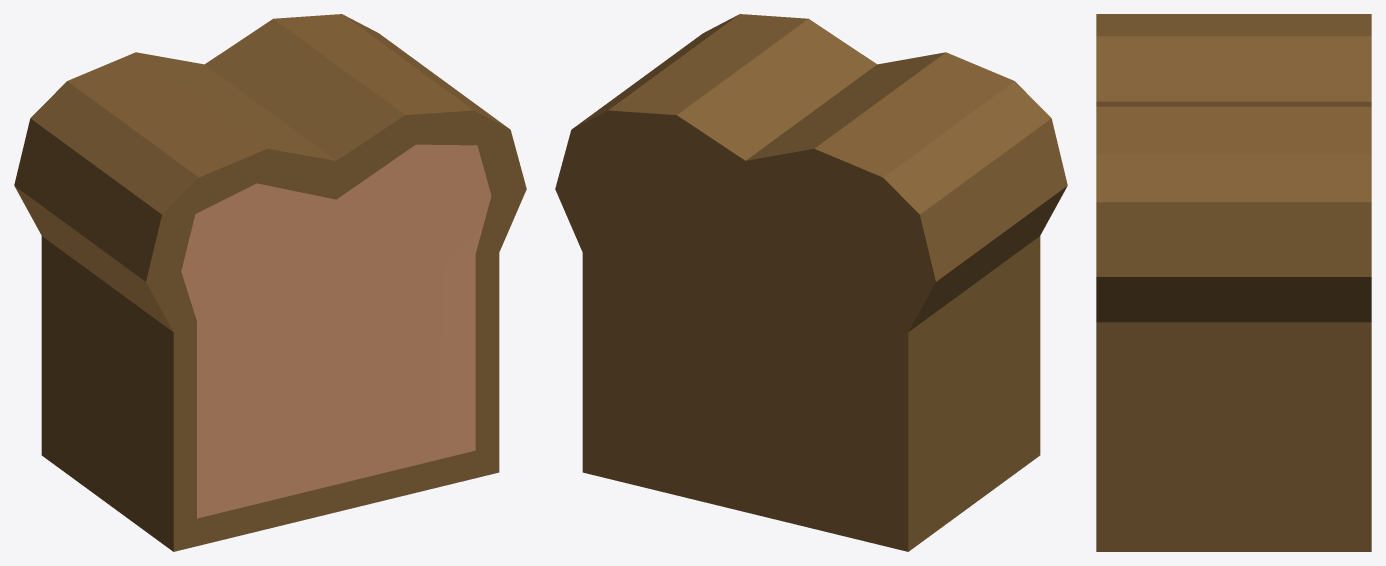
Rendered from SM_Bread.fbx.
3 renders of one model, left to right at view 1: azimuth 30°, elevation 25°; view 2: azimuth 150°, elevation 25°; view 3: azimuth 270°, elevation 25°, orthographic. The views are drawn at different scales.
Visible parts, largest first — view 1: SM_Bread; view 2: SM_Bread; view 3: SM_Bread.
Part boxes in pixels (x1,y1,x2,y2): SM_Bread: (14,14,526,551); SM_Bread: (555,14,1067,551); SM_Bread: (1096,14,1371,551).
Bounding box in the file's own units: 12.72 × 12.14 × 7.62.
